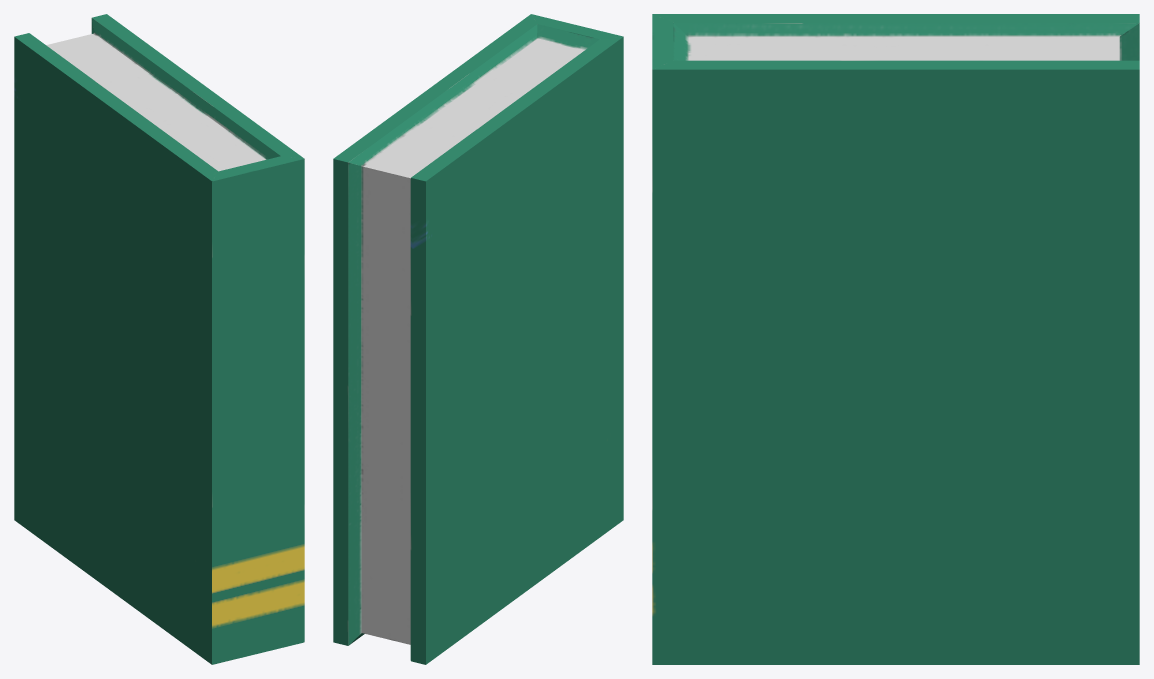
Rendered from Book_V3.fbx.
The picture shows the model from 3 angles, left to right: view 1: azimuth 30°, elevation 25°; view 2: azimuth 150°, elevation 25°; view 3: azimuth 270°, elevation 25°; orthographic projection. The views are drawn at different scales.
Visible parts, largest first — view 1: Book_V3; view 2: Book_V3; view 3: Book_V3.
Boxes of the visible parts, x1,y1,x2,y2 form: Book_V3: (14,14,304,664); Book_V3: (333,14,623,664); Book_V3: (652,14,1139,664).
Size of the model in its own units: 7.07 by 35.27 by 26.17.
